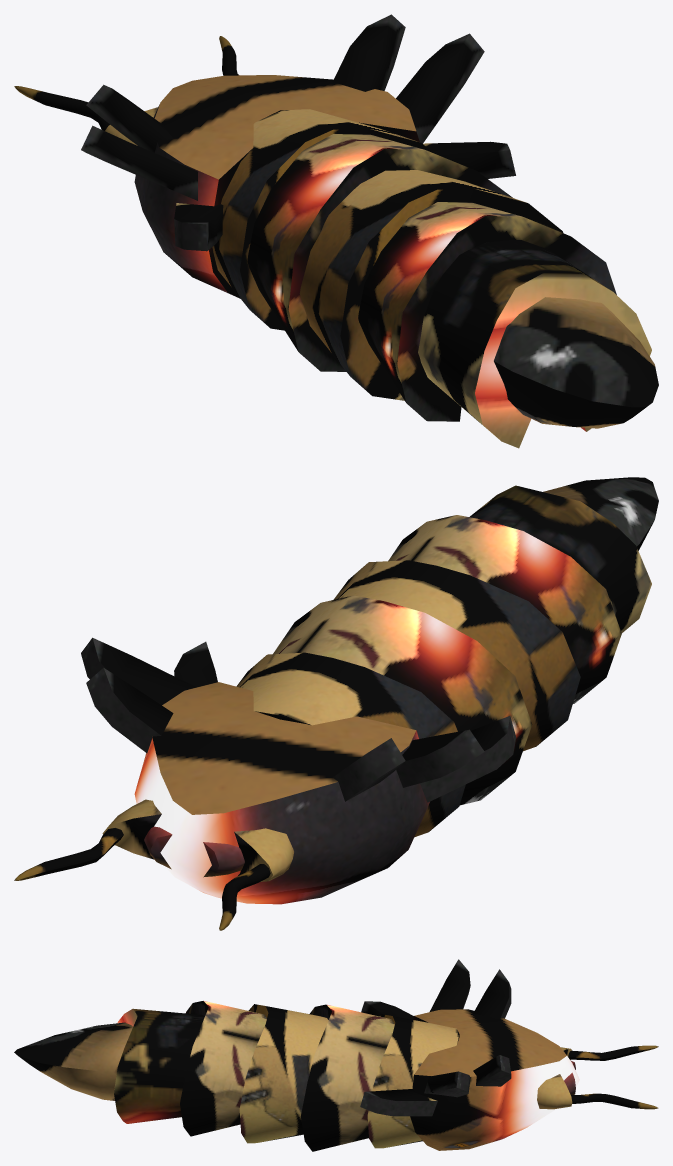
The model's file is ship19h.fbx.
3 renders of one model, top to bottom at view 1: azimuth 30°, elevation 25°; view 2: azimuth 150°, elevation 25°; view 3: azimuth 270°, elevation 25°, orthographic. The views are drawn at different scales.
Parts seen in each view (by area): view 1: PipelineFBX; view 2: PipelineFBX; view 3: PipelineFBX.
Part boxes in pixels (box(x1,y1,x2,y2)): PipelineFBX: box(14, 14, 658, 448); PipelineFBX: box(14, 477, 658, 930); PipelineFBX: box(14, 959, 658, 1151).
Size of the model in its own units: 125 by 63.66 by 283.
Materials: 1 (1 with a texture image).
